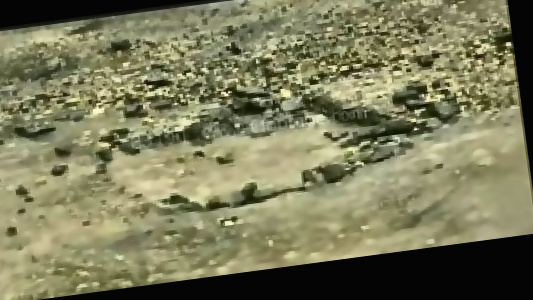pothole: (93, 74, 427, 225)
